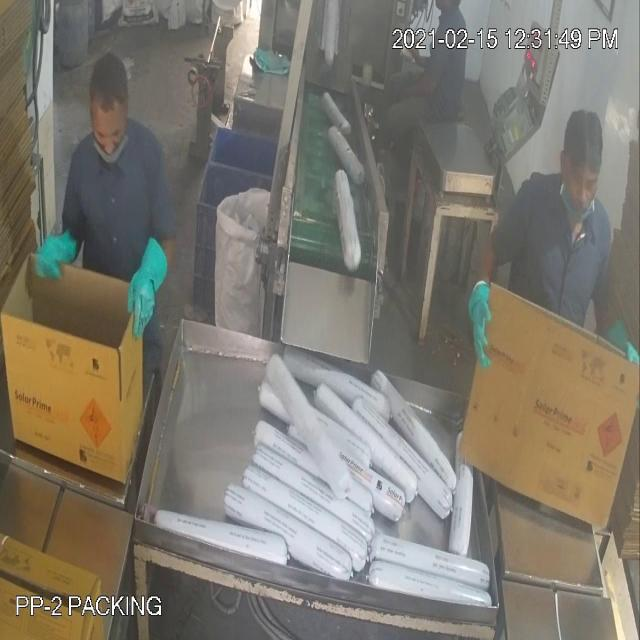gloves: (116, 226, 170, 344), (13, 208, 83, 292), (459, 264, 504, 383)
no-gloves: (389, 64, 443, 105)
